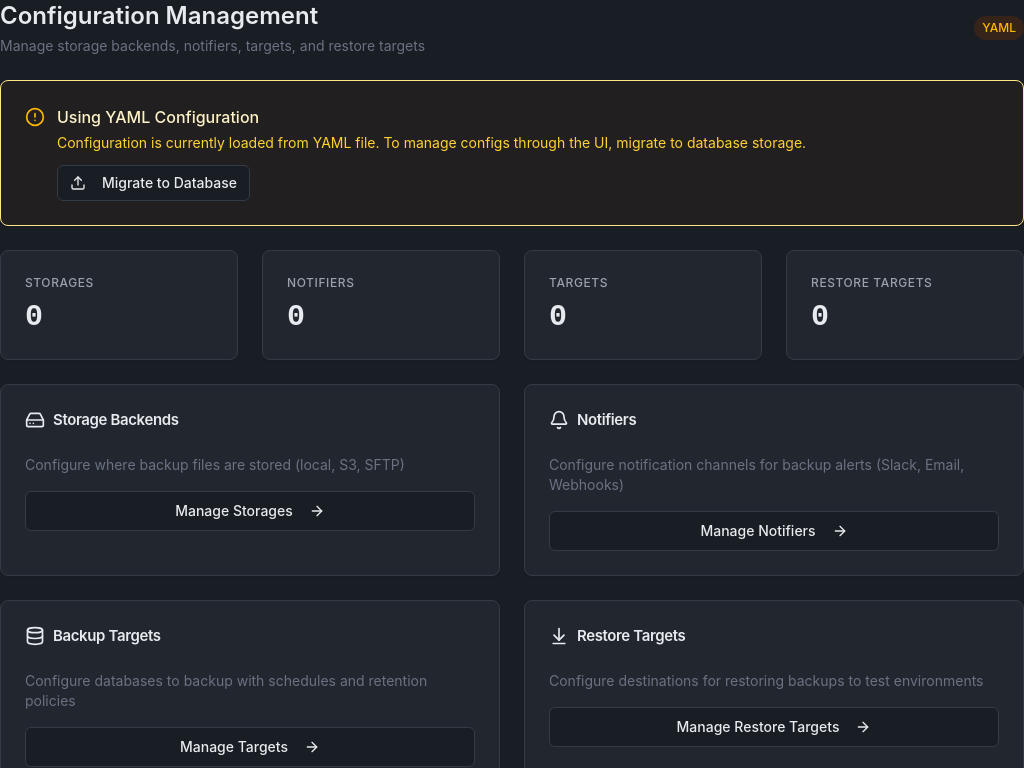
ConfigDashboardPage › does not migrate when the confirmation is cancelled
Click the button "Migrate to Database" at x=154, y=183, box [57, 165, 250, 201]
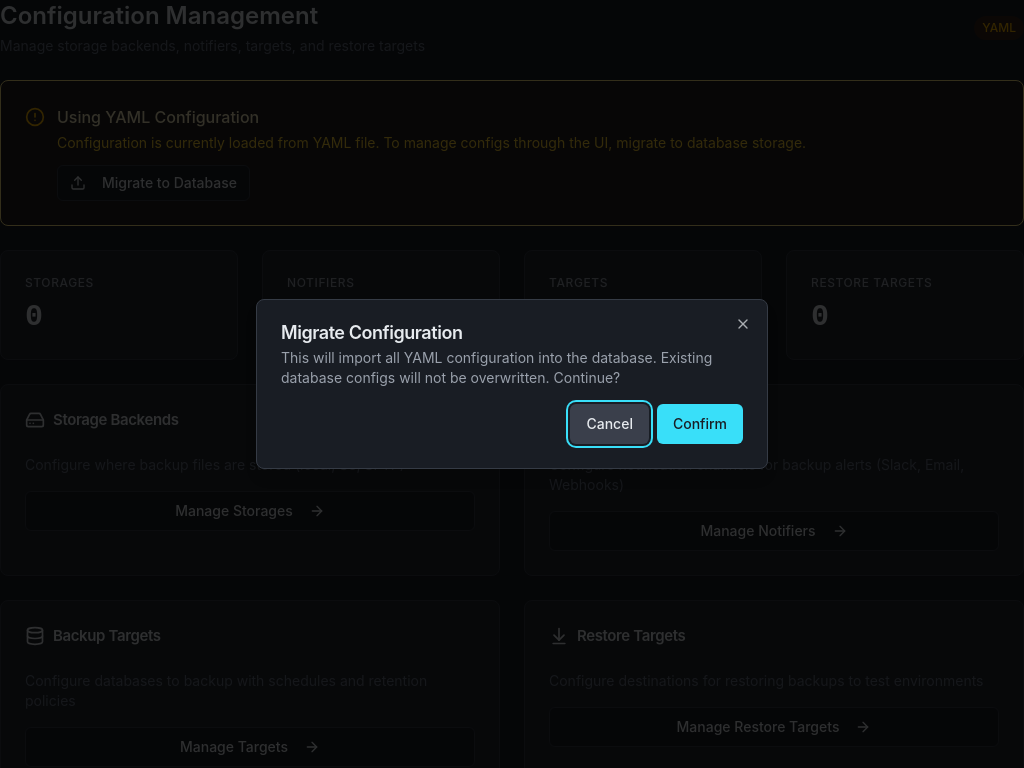
expect the dialog is shown: met, box [256, 299, 768, 469]
Click the button "Cancel" at x=610, y=424, box [570, 404, 649, 444]
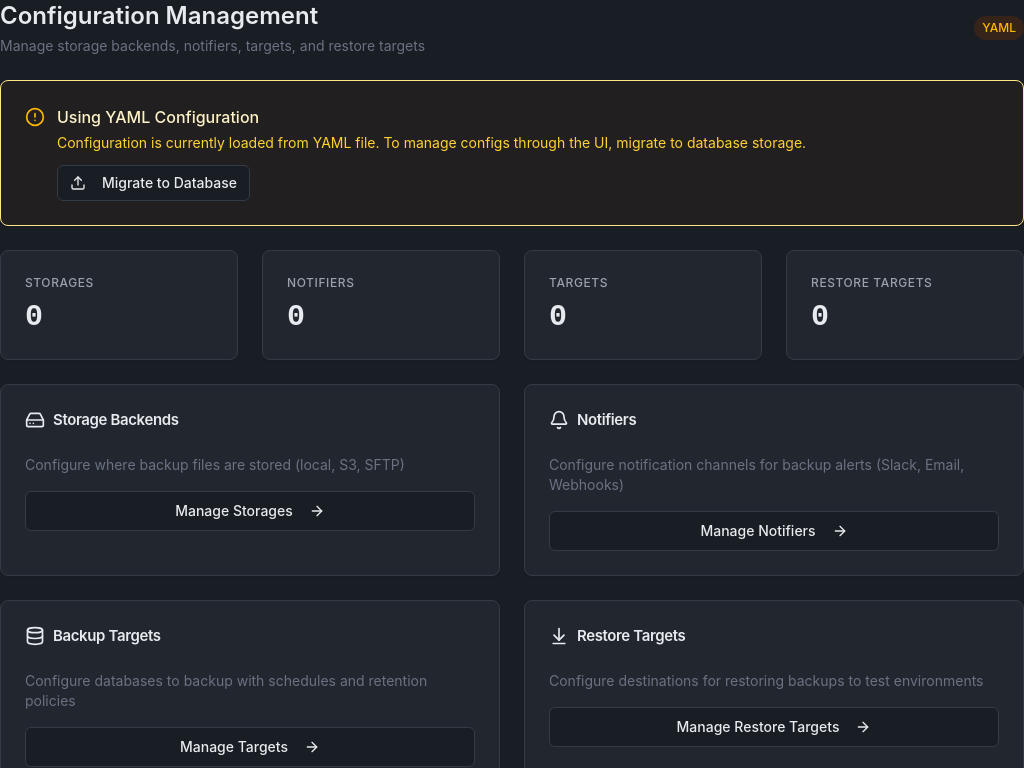
expect the dialog is gone: met
